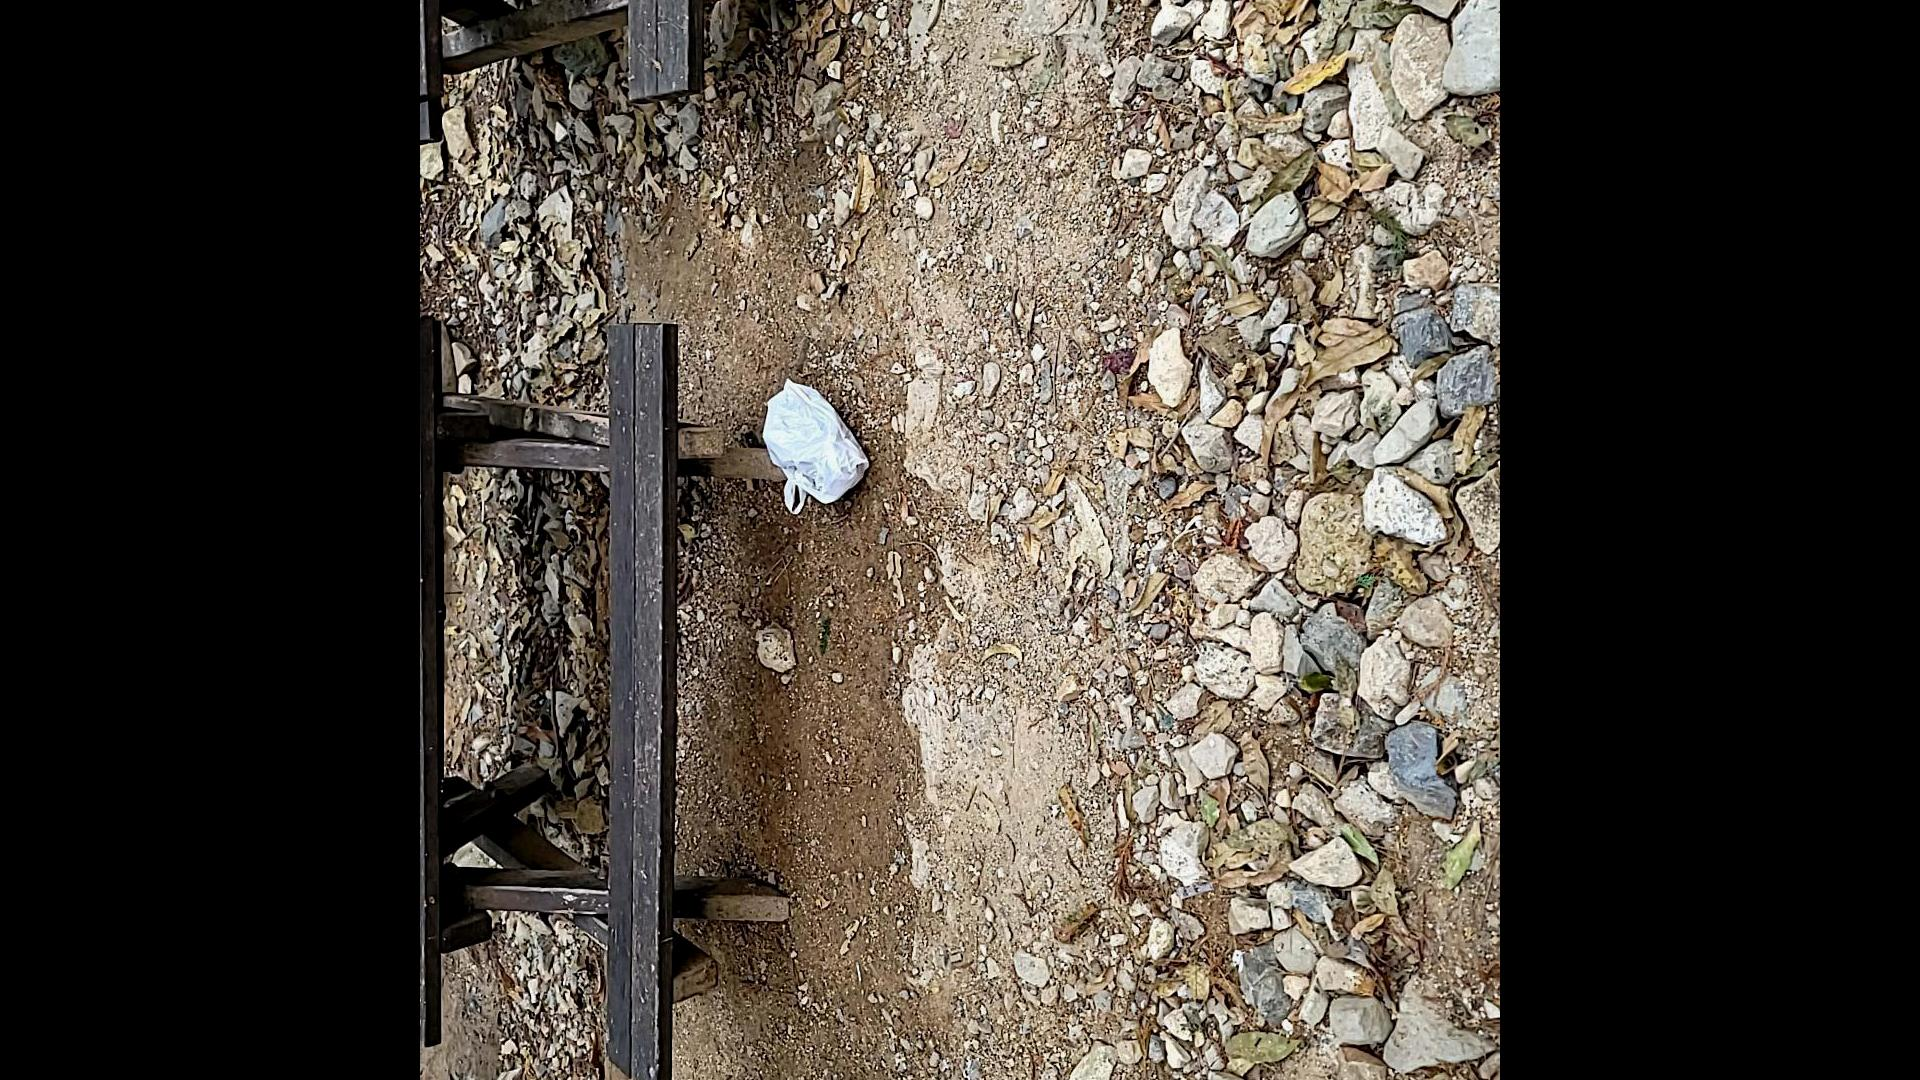white_bag: (756, 376, 882, 524)
